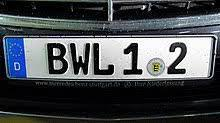1: (122, 41, 144, 77)
2: (167, 41, 188, 75)
B: (45, 40, 69, 76)
L: (92, 41, 116, 76)
W: (69, 40, 91, 76)
